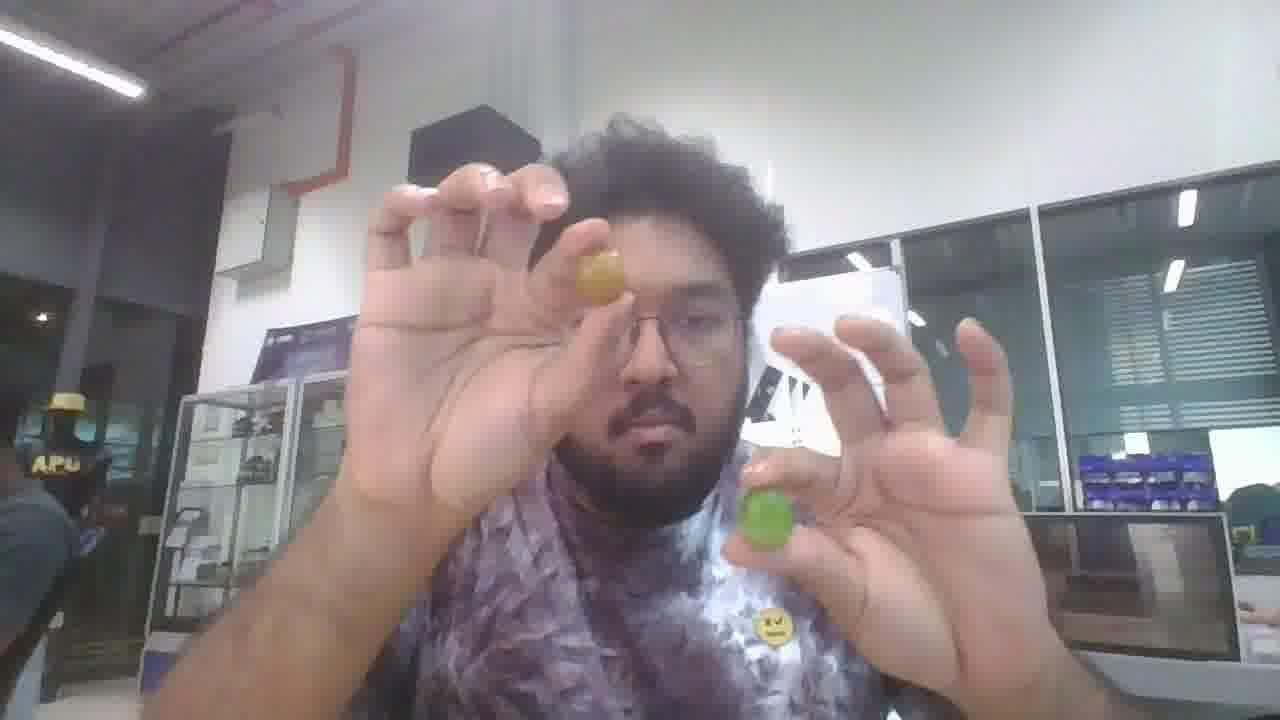green_cherry_tomato: (737, 489, 794, 550)
yellow_cherry_tomato: (575, 250, 623, 304)
